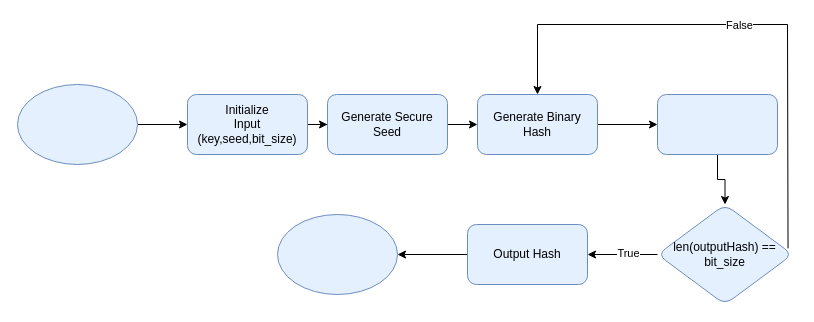
The diagram is 814 pixels wide and 322 high, and some of its shapes have lost their labels. Each missing label, with the centre of its shape:
"Convert to Hexadecimal" belongs at [717,124].
"End" belongs at [337,254].
"Start" belongs at [77,124].
